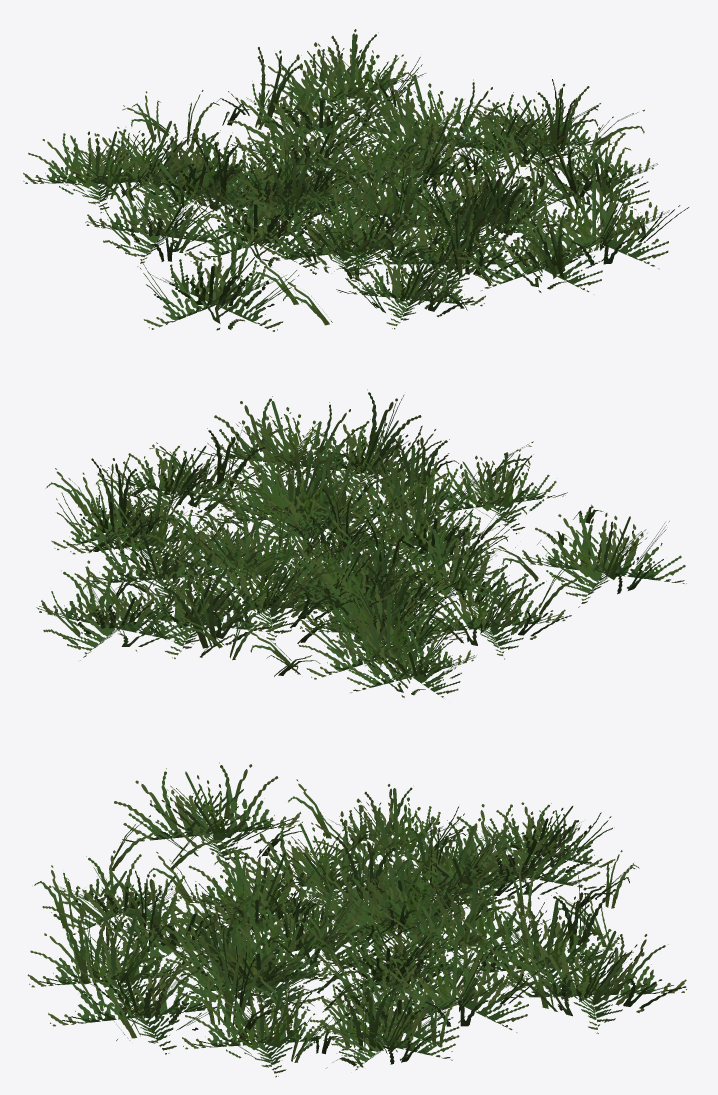
The model's file is Grass3.fbx.
3 renders of one model, top to bottom at view 1: azimuth 30°, elevation 25°; view 2: azimuth 150°, elevation 25°; view 3: azimuth 270°, elevation 25°, orthographic. The views are drawn at different scales.
Visible parts, largest first — view 1: Grass3_LOD0; view 2: Grass3_LOD0; view 3: Grass3_LOD0.
Boxes of the visible parts, <box> form: Grass3_LOD0: <box>23,29,688,331</box>; Grass3_LOD0: <box>36,389,686,697</box>; Grass3_LOD0: <box>27,762,686,1077</box>.
Size of what is drawn, in the model's own units: 2.3 by 2.22 by 0.3785.
